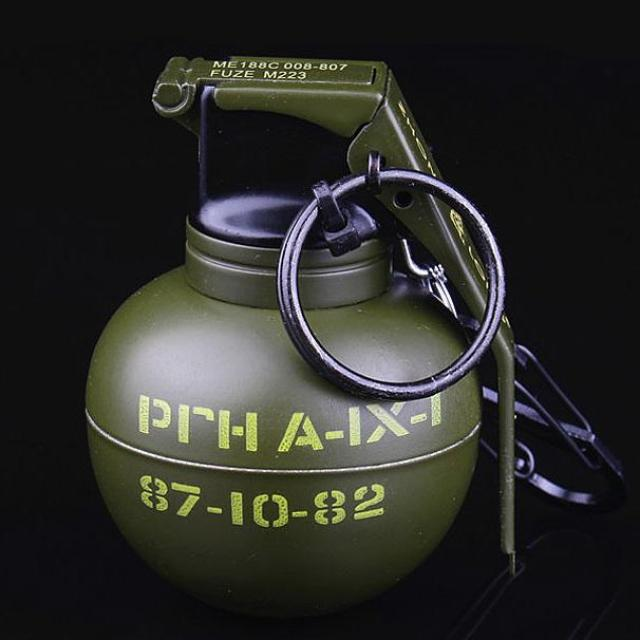grenade: (86, 59, 522, 632)
